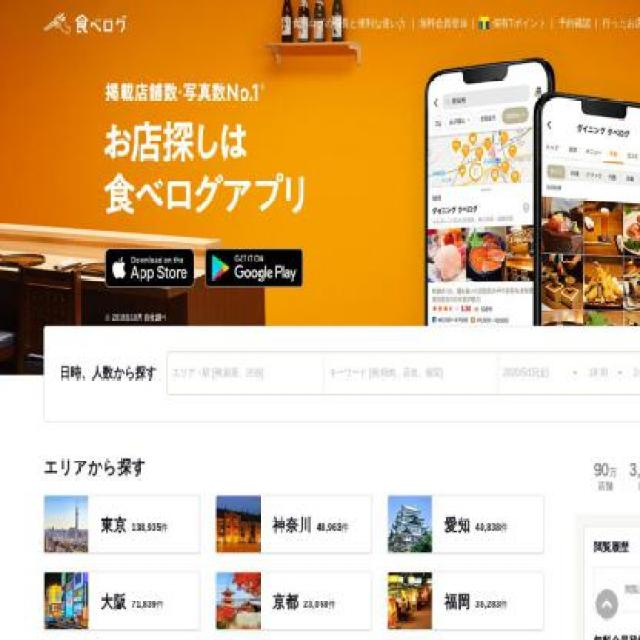button: (205, 248, 303, 287), (106, 248, 194, 287), (593, 458, 618, 496), (596, 588, 618, 620)
field: (324, 352, 498, 394), (168, 352, 324, 394), (497, 352, 585, 394), (584, 352, 628, 394), (627, 353, 640, 394)
